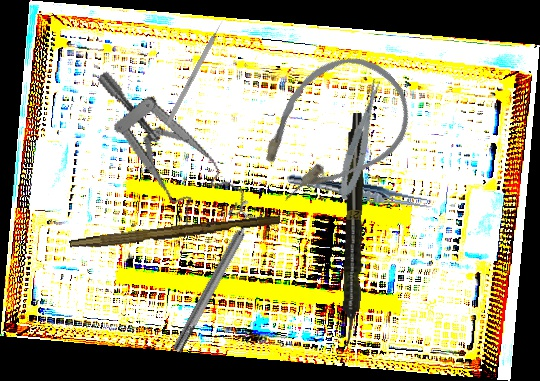Cannula: (232, 34, 431, 225)
Fixation Ring: (163, 199, 268, 357)
Handpiece: (338, 112, 368, 347)
Hook Surgical: (165, 16, 227, 125)
Micro Scissor: (332, 77, 390, 202)
Scalpel Handle: (68, 210, 282, 255)
Speculum: (95, 42, 252, 251)
Tissue Forceps: (285, 170, 436, 213)
